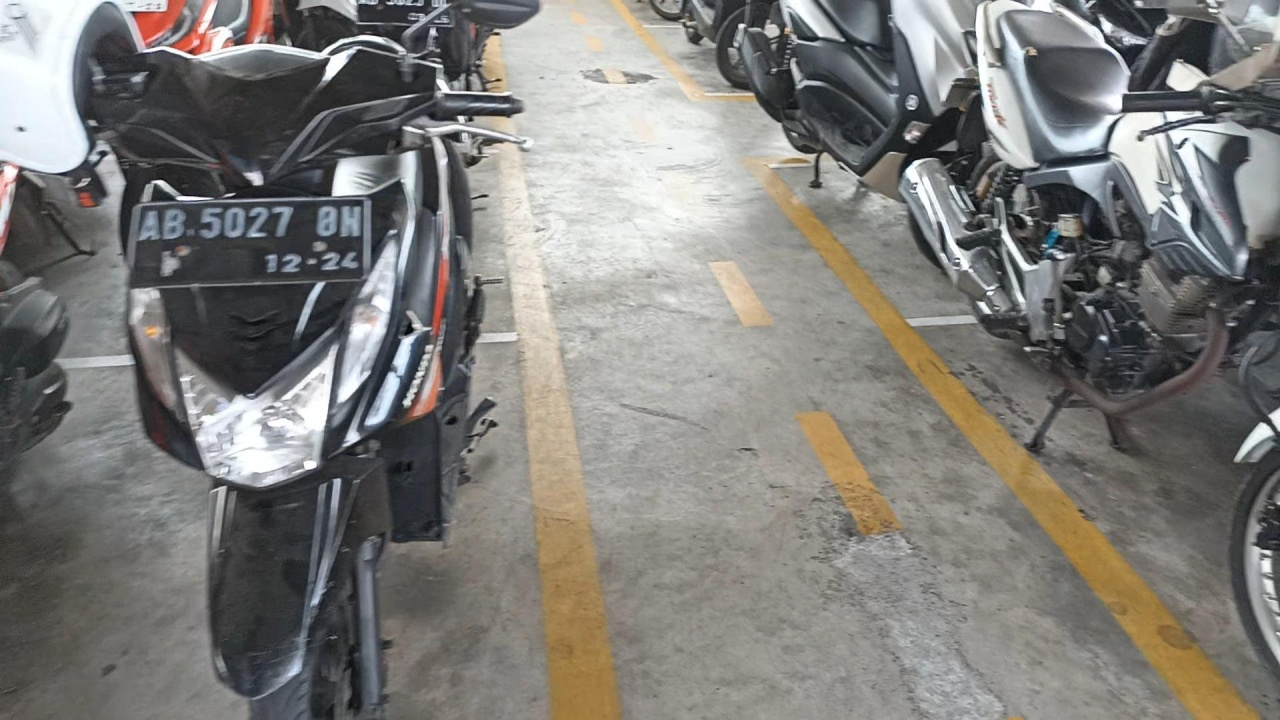plate: (126, 197, 367, 287)
